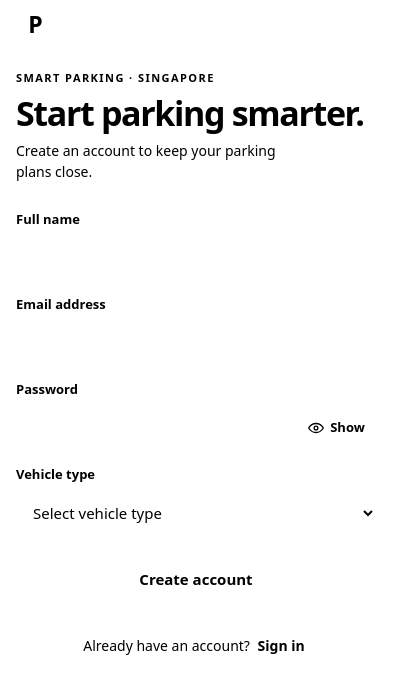
Test: SignUpPage › validates all registration fields before sending a request
What coordinates should you click on to do the following:
click the button "Create account"
I would click on:
 (196, 580)
Its box is [16,556,376,604].
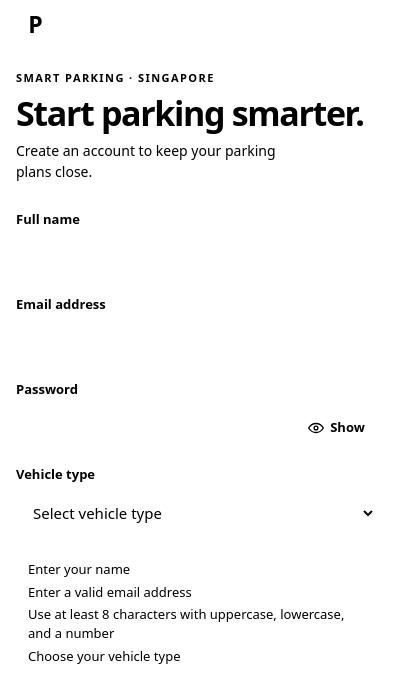
Now the message shows "Enter your name", box [28,560,130,578]
Now the message shows "Enter a valid email address", box [28,583,192,601]
Now the message shows "Choose your vehicle type", box [28,647,180,665]
